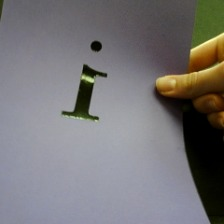violet1: (57, 37, 115, 128)
